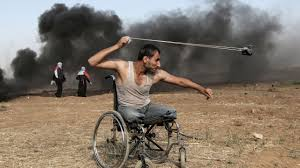wheelchair: (86, 35, 213, 168)
